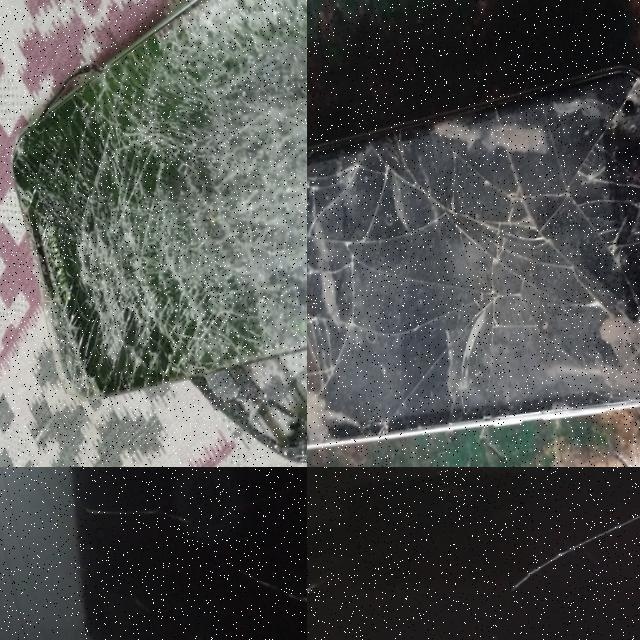scratch: (501, 517, 640, 596)
screen crack: (307, 58, 640, 467), (0, 0, 307, 419), (0, 467, 76, 640)
